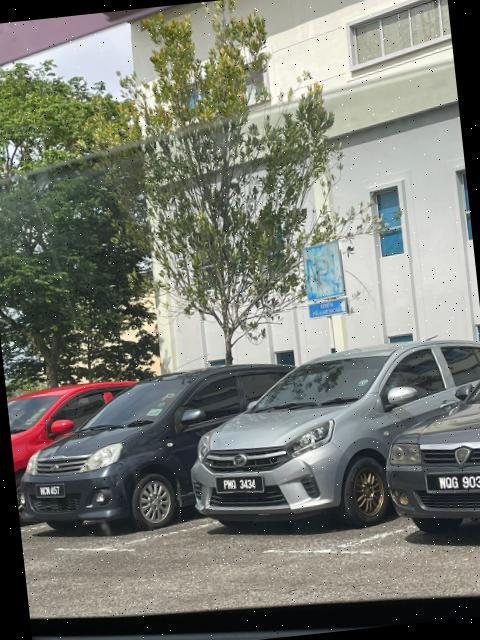License_Plate: (211, 468, 270, 502), (426, 464, 480, 501), (35, 479, 69, 502)
car: (177, 336, 480, 537), (15, 343, 317, 543), (378, 364, 480, 529)
